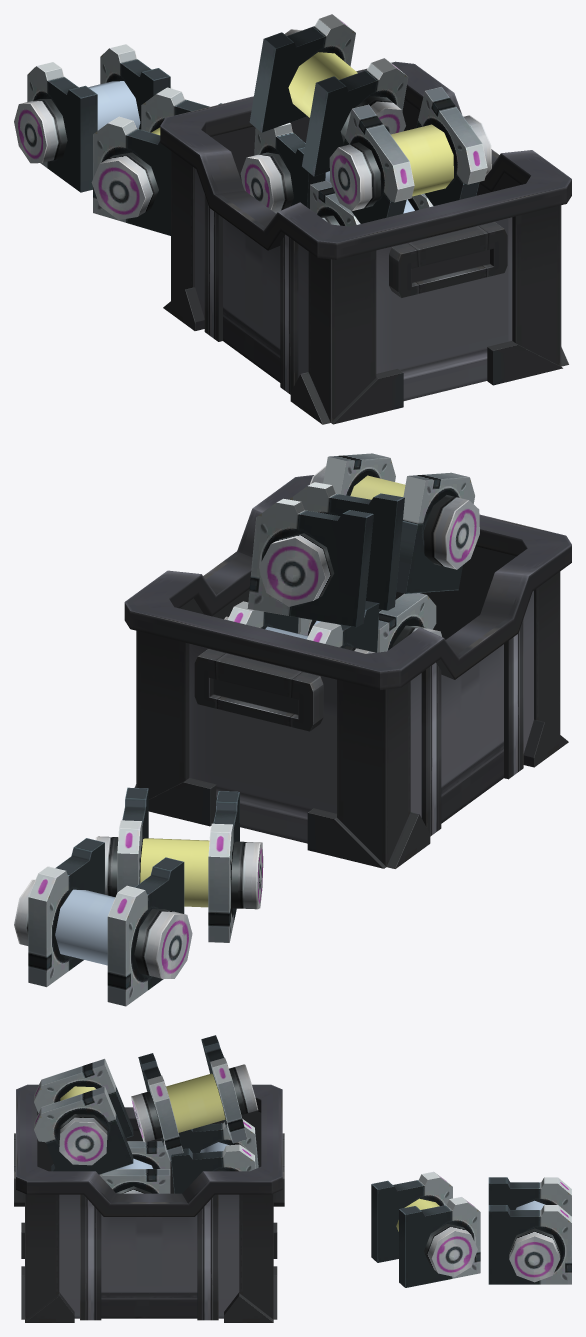
Rendered from my_carrier_01_box_05.glb.
The picture shows the model from 3 angles, top to bottom: view 1: azimuth 30°, elevation 25°; view 2: azimuth 150°, elevation 25°; view 3: azimuth 270°, elevation 25°; orthographic projection. The views are drawn at different scales.
Visible parts, largest first — view 1: my_carrier_01_box_05; view 2: my_carrier_01_box_05; view 3: my_carrier_01_box_05.
Part boxes in pixels (bbox=[...]): my_carrier_01_box_05: bbox=[14, 14, 571, 424]; my_carrier_01_box_05: bbox=[14, 453, 571, 1006]; my_carrier_01_box_05: bbox=[14, 1035, 571, 1322].
Size of the model in its own units: 0.00306 by 0.00323 by 0.00746.
Materials: 2 (2 with a texture image).
